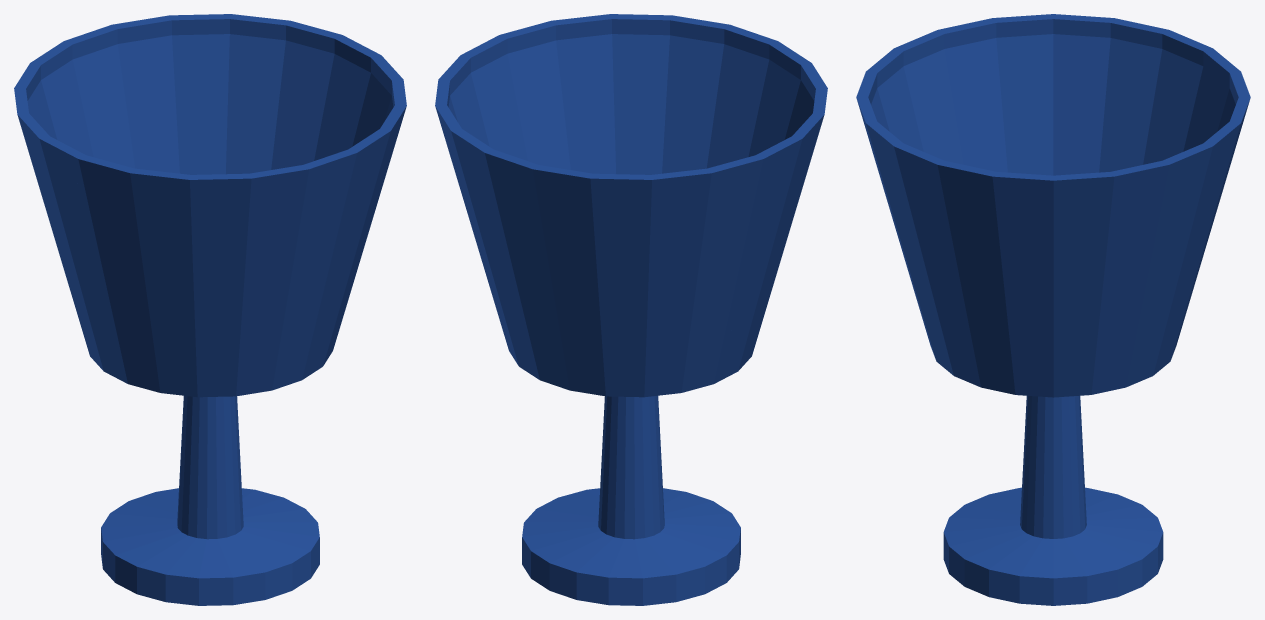
File: cupbroken.fbx
The picture shows the model from 3 angles, left to right: view 1: azimuth 30°, elevation 25°; view 2: azimuth 150°, elevation 25°; view 3: azimuth 270°, elevation 25°; orthographic projection.
Visible parts, largest first — view 1: cup_Part_12, cup_Part_4, cup_Part_3, cup_Part_15, cup_Part_10, cup_Part_6, cup_Part_14, cup_Part_1, cup_Part_13, cup_Part_8, cup_Part_9, cup_Part_5 (+2 smaller); view 2: cup_Part_3, cup_Part_15, cup_Part_14, cup_Part_1, cup_Part_9, cup_Part_8, cup_Part_11, cup_Part_4, cup_Part_2, cup_Part_10, cup_Part_13, cup_Part_6 (+3 smaller); view 3: cup_Part_14, cup_Part_4, cup_Part_13, cup_Part_10, cup_Part_5, cup_Part_2, cup_Part_8, cup_Part_9, cup_Part_15, cup_Part_6, cup_Part_11, cup_Part_7 (+2 smaller).
Part boxes in pixels (x1,y1,x2,y2): cup_Part_12: (158,212,299,397); cup_Part_4: (173,14,318,174); cup_Part_3: (78,14,210,172); cup_Part_15: (101,440,244,605); cup_Part_10: (69,151,259,289); cup_Part_6: (72,206,185,395); cup_Part_14: (284,20,406,213); cup_Part_1: (255,125,392,264); cup_Part_13: (226,463,319,603); cup_Part_8: (279,173,380,387); cup_Part_9: (14,29,106,150); cup_Part_5: (181,395,240,479); cup_Part_3: (463,135,676,397); cup_Part_15: (544,444,740,605); cup_Part_14: (435,15,603,167); cup_Part_1: (601,14,770,142); cup_Part_9: (549,166,720,308); cup_Part_8: (557,71,702,174); cup_Part_11: (665,210,787,393); cup_Part_4: (435,106,576,391); cup_Part_2: (740,118,819,240); cup_Part_10: (759,39,827,175); cup_Part_13: (522,470,703,586); cup_Part_6: (691,171,805,390); cup_Part_14: (900,146,1169,330); cup_Part_4: (1080,136,1222,388); cup_Part_13: (943,469,1153,605); cup_Part_10: (864,17,1009,163); cup_Part_5: (984,298,1120,479); cup_Part_2: (1006,14,1131,118); cup_Part_8: (890,195,1014,387); cup_Part_9: (1147,28,1247,163); cup_Part_15: (947,458,1163,577); cup_Part_6: (961,80,1061,175); cup_Part_11: (1034,109,1149,174); cup_Part_7: (1109,22,1159,153).
Bounding box in the file's own units: 23.86 × 30.85 × 23.86.
